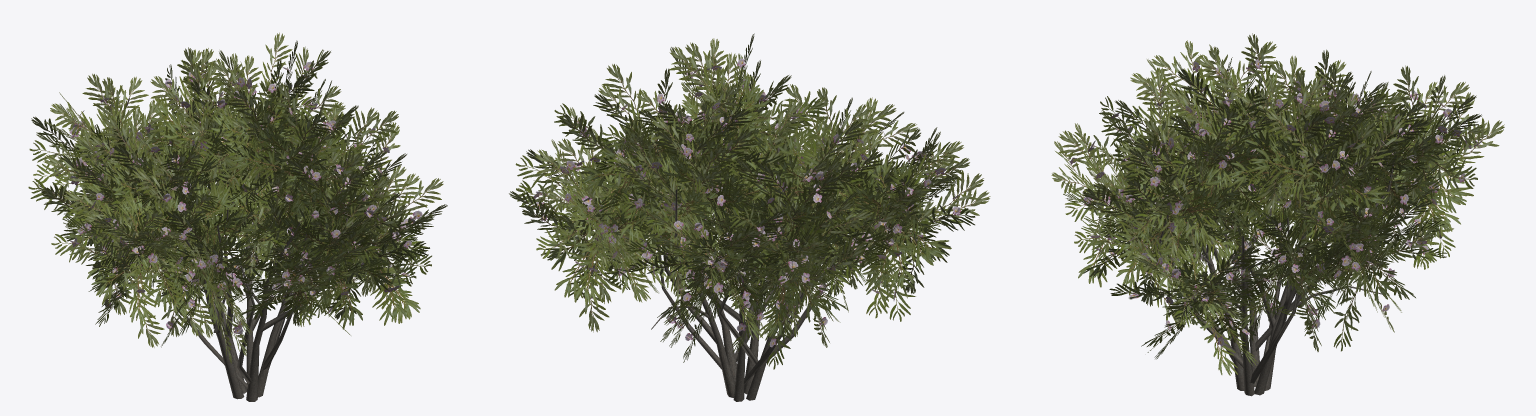
File: Chilopsis_Linearis_Spring_Young.glb
The picture shows the model from 3 angles, left to right: view 1: azimuth 30°, elevation 25°; view 2: azimuth 150°, elevation 25°; view 3: azimuth 270°, elevation 25°; orthographic projection. The views are drawn at different scales.
Visible parts, largest first — view 1: Chilopsis_Linearis_Spring_Young__LOD3; view 2: Chilopsis_Linearis_Spring_Young__LOD3; view 3: Chilopsis_Linearis_Spring_Young__LOD3.
Part boxes in pixels (<box>): Chilopsis_Linearis_Spring_Young__LOD3: <box>28,32,447,401</box>; Chilopsis_Linearis_Spring_Young__LOD3: <box>509,33,990,401</box>; Chilopsis_Linearis_Spring_Young__LOD3: <box>1051,33,1504,396</box>.
Bounding box in the file's own units: 3.03 × 2.24 × 2.94.
3 materials, 3 textured.
